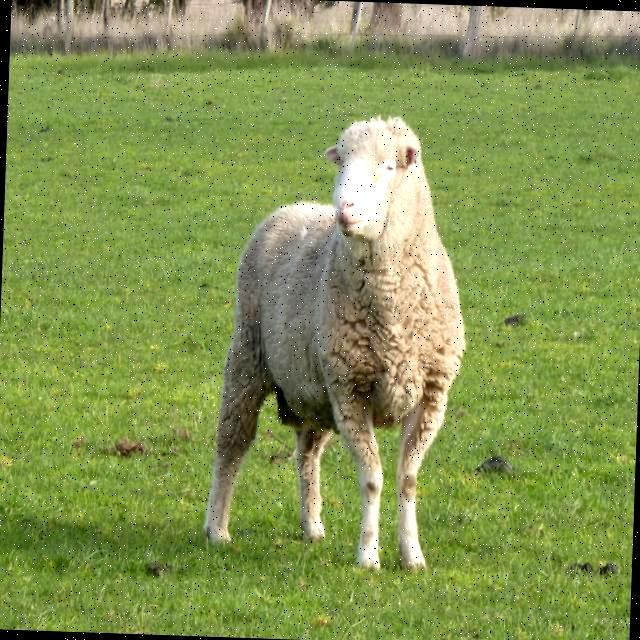sheep: (205, 115, 466, 565)
